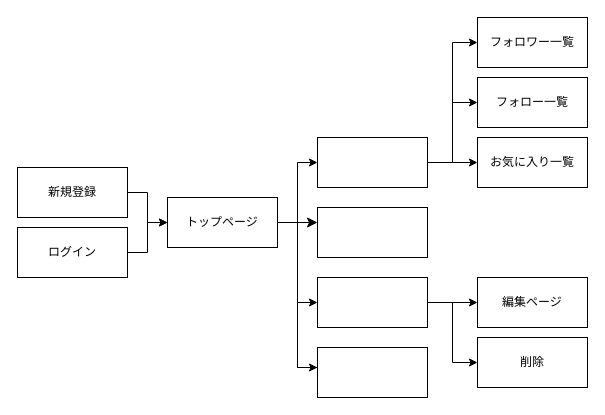
This 605x415 diagram has some shape labels left out. Here are the shapes that lost their labels. From the top down, the centre of each, then its label:
pixel 372 162: マイページ
pixel 372 232: 投稿ページ
pixel 372 302: 詳細ページ
pixel 372 372: 検索ページ
